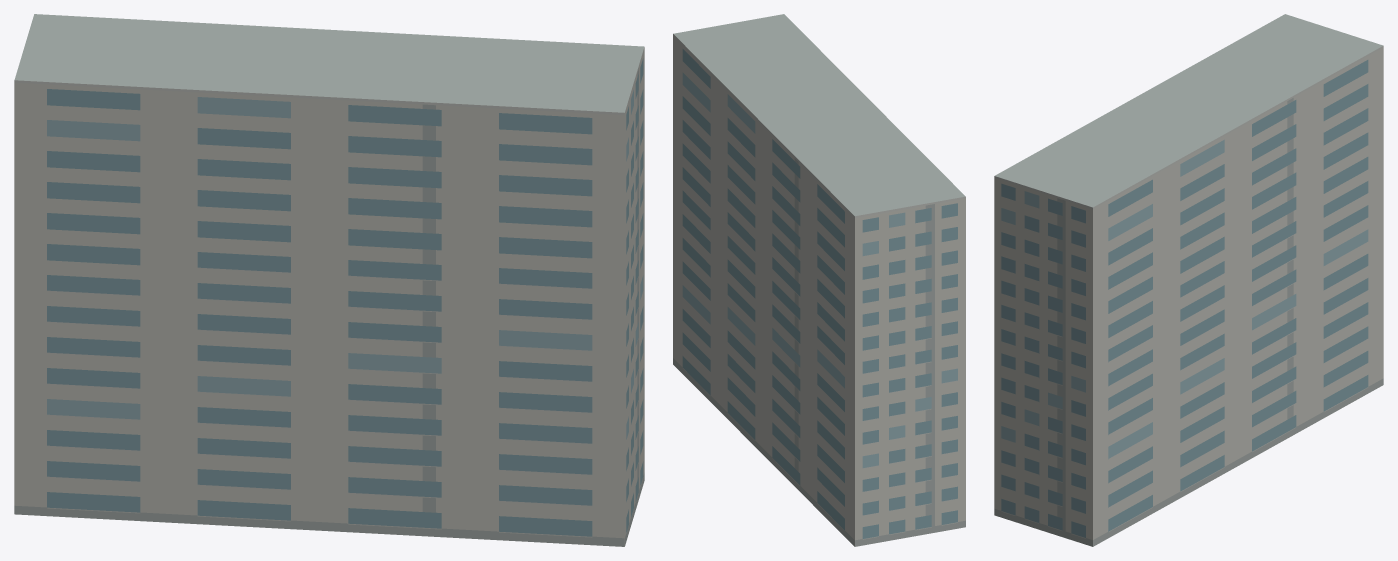
Rendered from residential-365d0eca-5ae0-47e4-8cfb-45b7faf54e1f.glb.
The picture shows the model from 3 angles, left to right: view 1: azimuth 30°, elevation 25°; view 2: azimuth 150°, elevation 25°; view 3: azimuth 270°, elevation 25°; orthographic projection. The views are drawn at different scales.
Visible parts, largest first — view 1: residential-365d0eca-5ae0-47e4-8cfb-45b7faf54e1f.tmp; view 2: residential-365d0eca-5ae0-47e4-8cfb-45b7faf54e1f.tmp; view 3: residential-365d0eca-5ae0-47e4-8cfb-45b7faf54e1f.tmp.
Part boxes in pixels (box(x1,y1,x2,y2)): residential-365d0eca-5ae0-47e4-8cfb-45b7faf54e1f.tmp: box(14, 14, 644, 546); residential-365d0eca-5ae0-47e4-8cfb-45b7faf54e1f.tmp: box(673, 14, 965, 546); residential-365d0eca-5ae0-47e4-8cfb-45b7faf54e1f.tmp: box(994, 14, 1383, 546).
Size of the model in its own units: 52.22 by 42.7 by 44.38.
